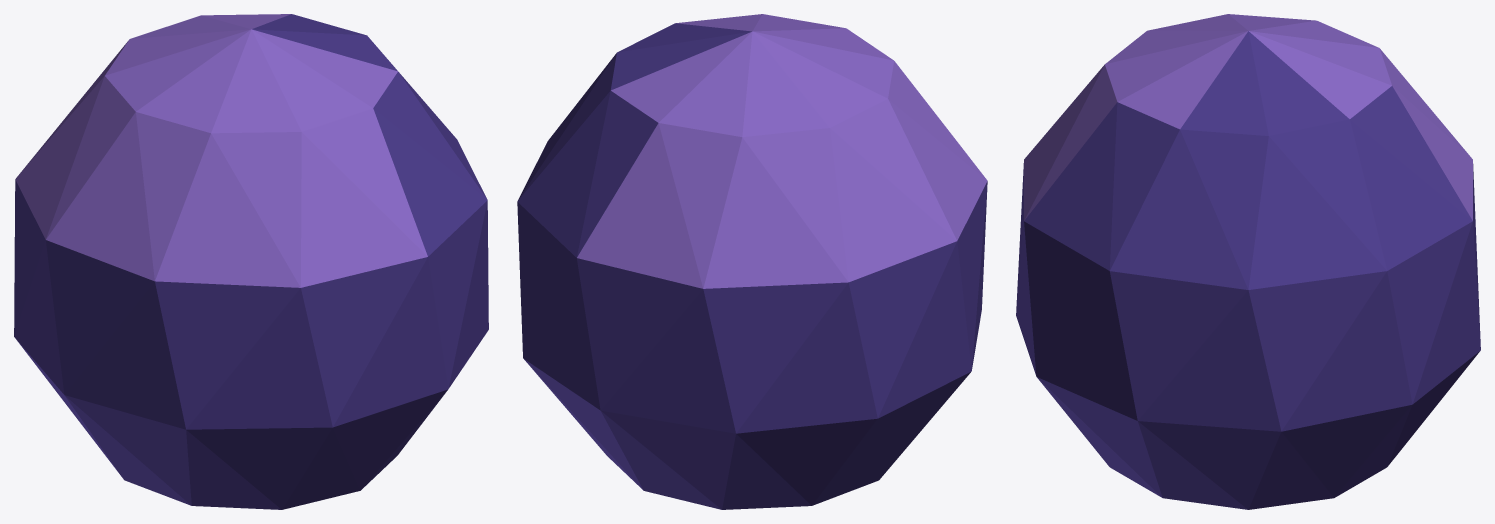
Rendered from Berry_02.fbx.
The picture shows the model from 3 angles, left to right: view 1: azimuth 30°, elevation 25°; view 2: azimuth 150°, elevation 25°; view 3: azimuth 270°, elevation 25°; orthographic projection.
Parts seen in each view (by area): view 1: Berry_02; view 2: Berry_02; view 3: Berry_02.
Part boxes in pixels (box(x1,y1,x2,y2)): Berry_02: box(14, 14, 488, 509); Berry_02: box(517, 14, 987, 509); Berry_02: box(1016, 14, 1480, 509).
Size of the model in its own units: 0.7418 by 0.8 by 0.7306.
Materials: 1 (1 with a texture image).
